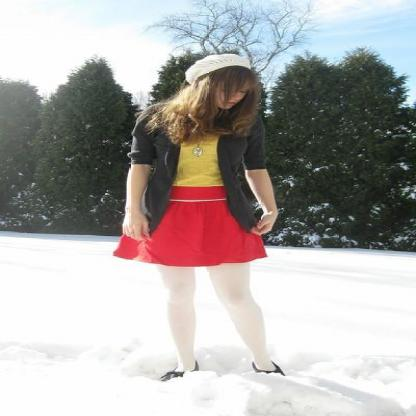hat: (185, 46, 258, 88)
jacket: (129, 126, 276, 232)
shirt: (172, 135, 222, 186)
shoe: (159, 358, 283, 380)
skirt: (122, 186, 266, 266)
